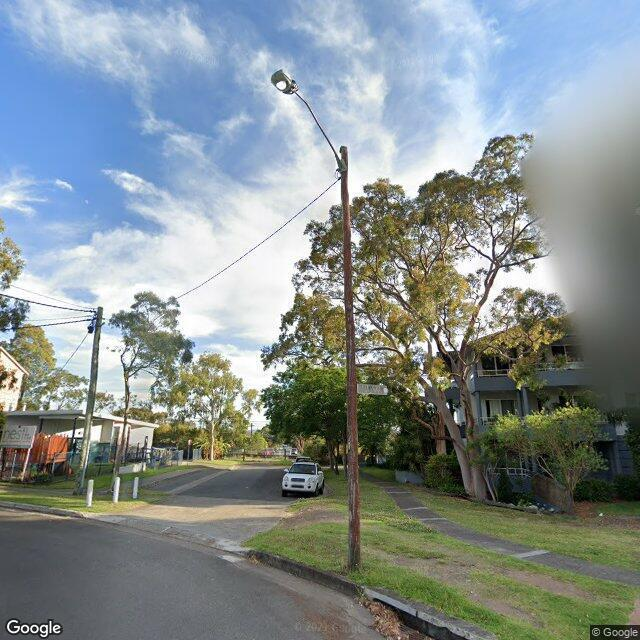streetlight: (271, 70, 347, 172)
timber-pole: (339, 145, 362, 570), (72, 306, 104, 496)
